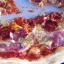pizza: (1, 12, 63, 63)
